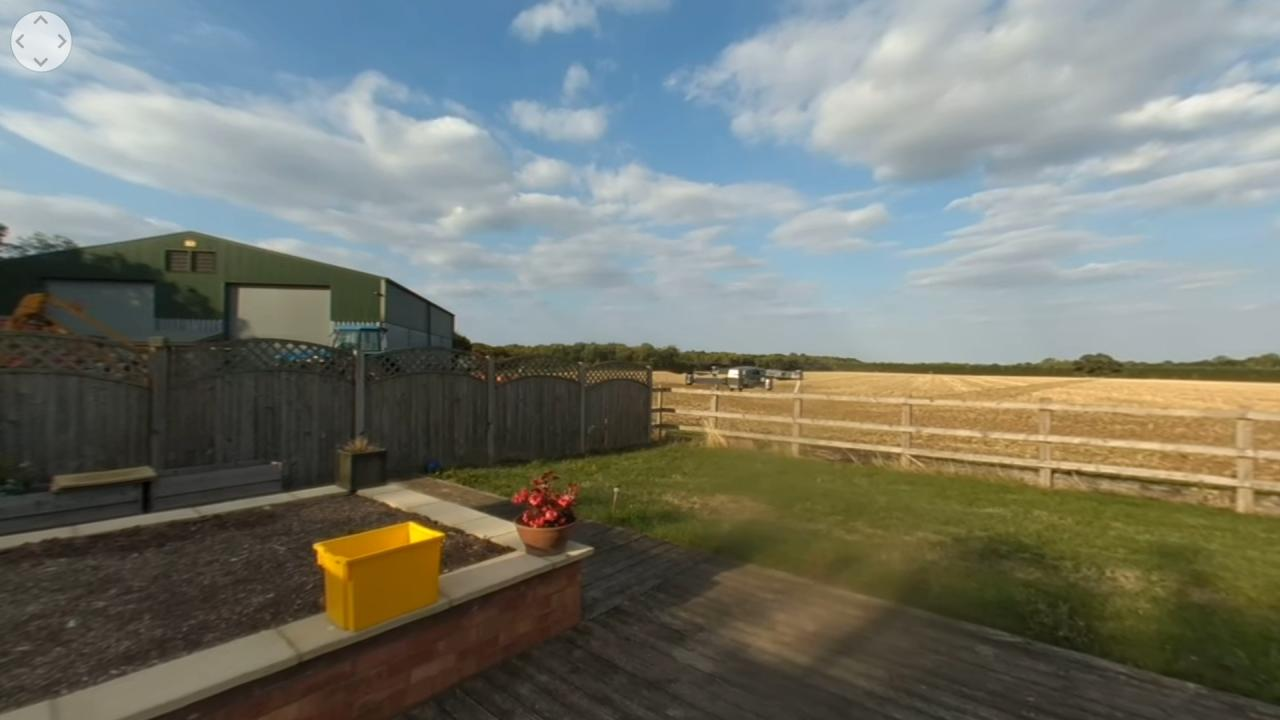Drone: (659, 349, 821, 405)
